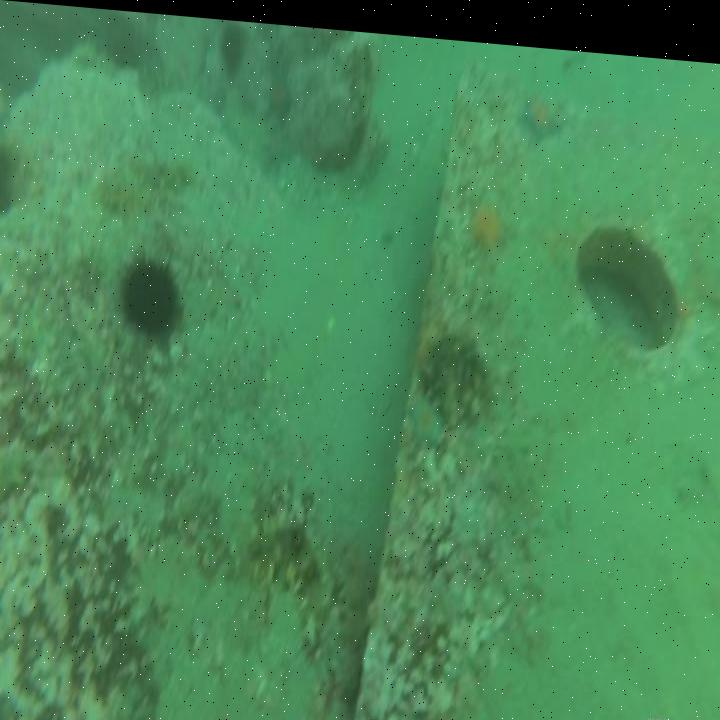echinus: (118, 248, 184, 349), (219, 16, 248, 69)
holothurian: (246, 492, 331, 631), (416, 299, 492, 413), (95, 167, 162, 221), (126, 147, 198, 193)
starfish: (465, 184, 518, 249), (522, 79, 566, 137)
